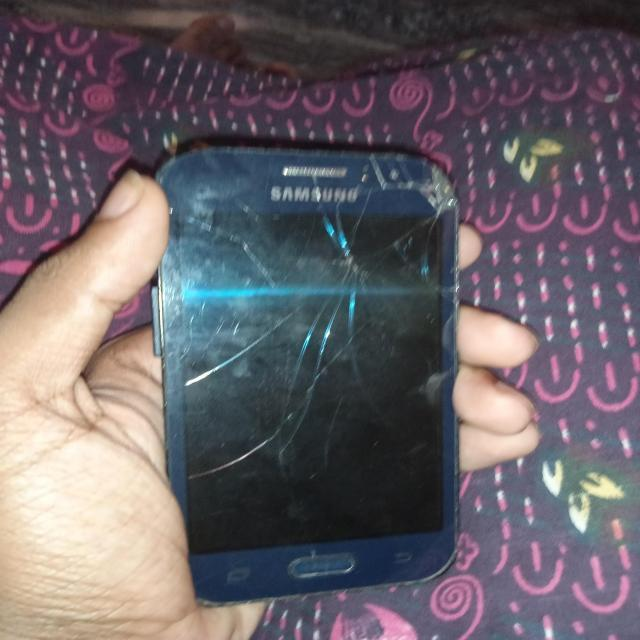cellphone: (81, 104, 560, 616)
